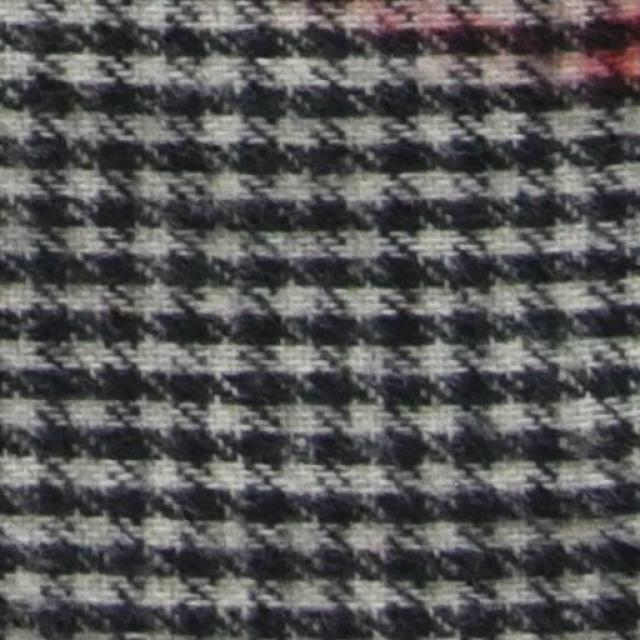Stain: (306, 0, 639, 104)
